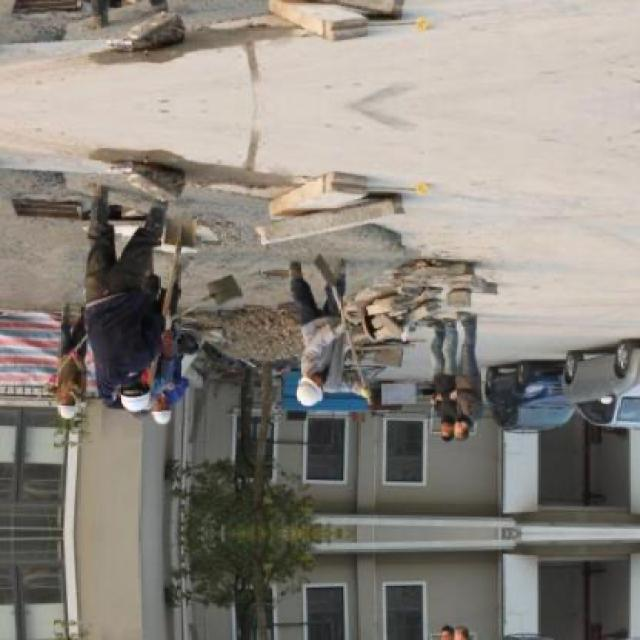con casco: (99, 366, 171, 421), (276, 367, 352, 416), (33, 368, 93, 423)
